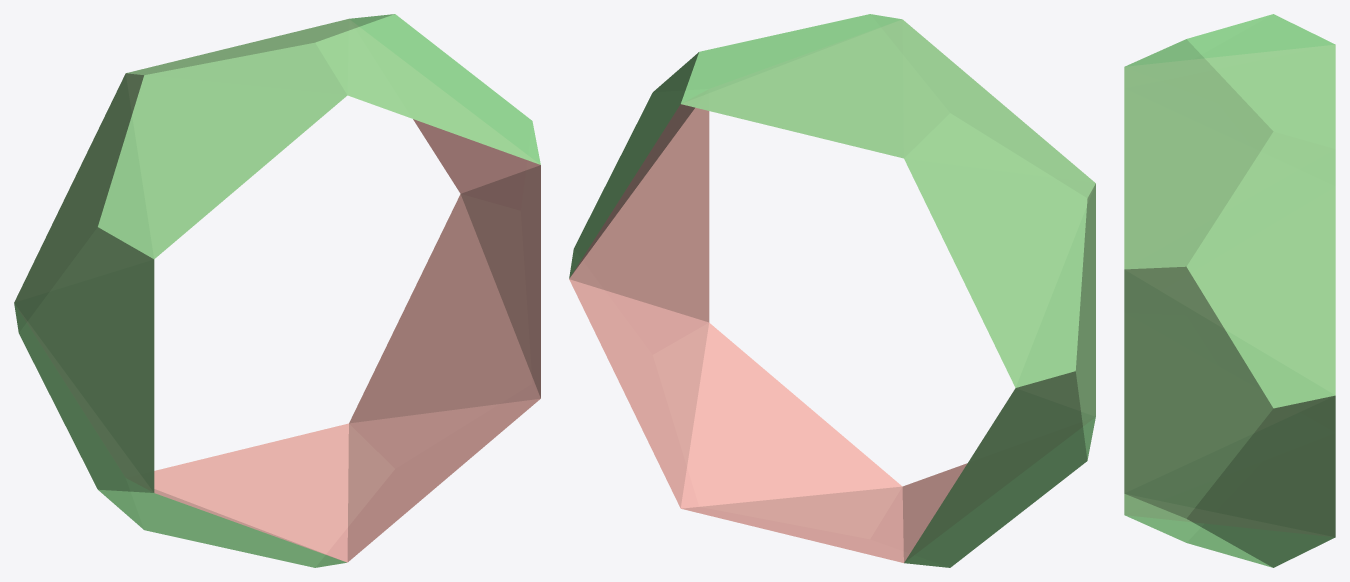
The model's file is HexagonalTrapezohedronAntiprismToroid.obj.
3 views of the same model, side by side, from view 1: azimuth 30°, elevation 25°; view 2: azimuth 150°, elevation 25°; view 3: azimuth 270°, elevation 25° (orthographic). The views are drawn at different scales.
Bounding box in the file's own units: 4.5 × 4.5 × 1.71.
